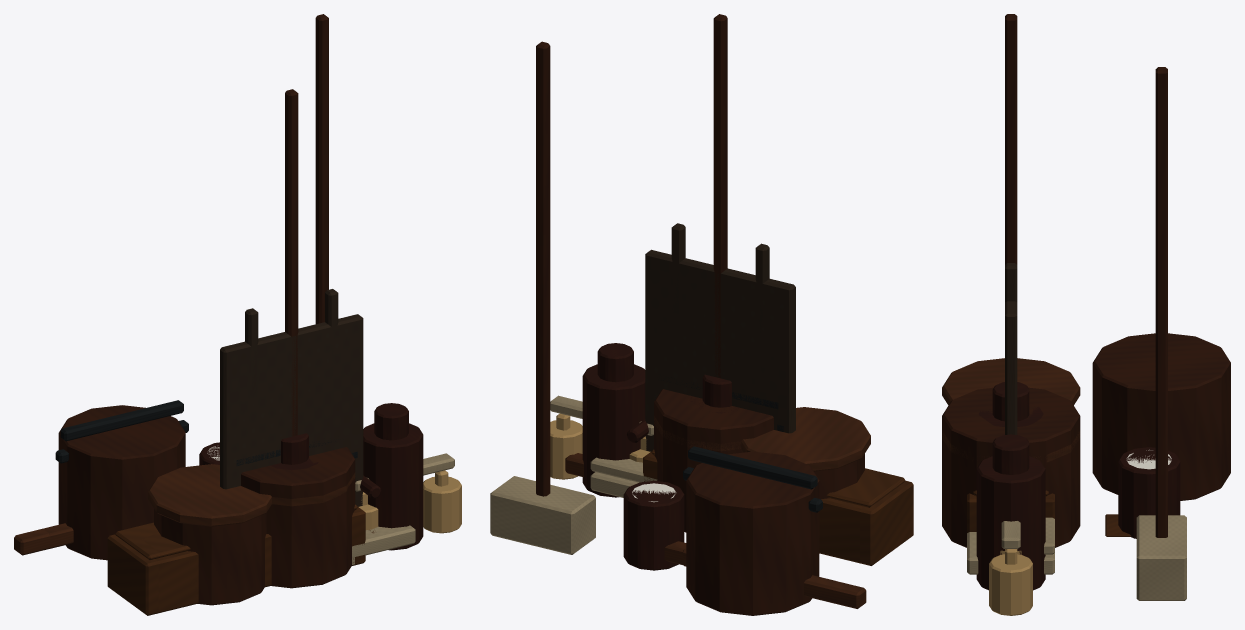
The model's file is smithy_household_clutter_kit.glb.
3 renders of one model, left to right at view 1: azimuth 30°, elevation 25°; view 2: azimuth 150°, elevation 25°; view 3: azimuth 270°, elevation 25°, orthographic. The views are drawn at different scales.
Parts seen in each view (by area): view 1: ApronBody, BucketBody.001, BucketBody, PeaBinBody.002, BeerJugBody.001, PeaBinRim.002, BroomHandle.001, BroomHandle, LoafBody.002, LoafBody.003, OnionBulb2.001, BucketHandleBar.001 (+9 smaller); view 2: ApronBody, BucketBody.001, BroomHandle.001, BucketBody, BroomHead.001, BeerJugBody.001, PeaBinRim.002, SaltCrockBody.001, BroomHandle, LoafBody.002, LoafBody.003, BucketHandleBar.001 (+12 smaller); view 3: BucketBody.001, BucketBody, BeerJugBody.001, BroomHandle.001, BroomHead.001, SaltCrockBody.001, PeaBinRim.002, BroomHandle, OnionBulb2.001, ApronBody, BeerJugNeck.001, BeerJugNeck (+6 smaller).
Part boxes in pixels (x1,y1,x2,y2): ApronBody: [220, 314, 363, 506]; BucketBody.001: [58, 405, 185, 560]; BucketBody: [241, 447, 355, 588]; PeaBinBody.002: [154, 509, 266, 605]; BeerJugBody.001: [363, 423, 423, 550]; PeaBinRim.002: [148, 464, 271, 526]; BroomHandle.001: [315, 14, 328, 324]; BroomHandle: [285, 89, 298, 436]; LoafBody.002: [107, 534, 198, 615]; LoafBody.003: [155, 551, 198, 613]; OnionBulb2.001: [423, 476, 461, 533]; BucketHandleBar.001: [60, 400, 183, 441]; ApronBody: [645, 249, 795, 451]; BucketBody.001: [686, 451, 819, 615]; BroomHandle.001: [536, 41, 550, 496]; BucketBody: [654, 389, 773, 532]; BroomHead.001: [490, 476, 595, 554]; BeerJugBody.001: [582, 364, 645, 497]; PeaBinRim.002: [741, 407, 870, 471]; SaltCrockBody.001: [623, 481, 684, 570]; BroomHandle: [713, 14, 727, 378]; LoafBody.002: [819, 480, 913, 565]; LoafBody.003: [819, 498, 863, 562]; BucketHandleBar.001: [688, 446, 817, 489]; BucketBody.001: [1092, 333, 1230, 500]; BucketBody: [942, 387, 1080, 547]; BeerJugBody.001: [976, 456, 1045, 590]; BroomHandle.001: [1155, 67, 1167, 537]; BroomHead.001: [1136, 515, 1186, 600]; SaltCrockBody.001: [1118, 447, 1180, 538]; PeaBinRim.002: [942, 358, 1080, 405]; BroomHandle: [1005, 14, 1017, 264]; OnionBulb2.001: [989, 554, 1032, 615]; ApronBody: [1005, 301, 1017, 434]; BeerJugNeck.001: [992, 434, 1029, 474]; BeerJugNeck: [992, 382, 1029, 421].
Size of the model in its own units: 0.745 by 0.9 by 0.46.
Materials: 11 (8 with a texture image).
